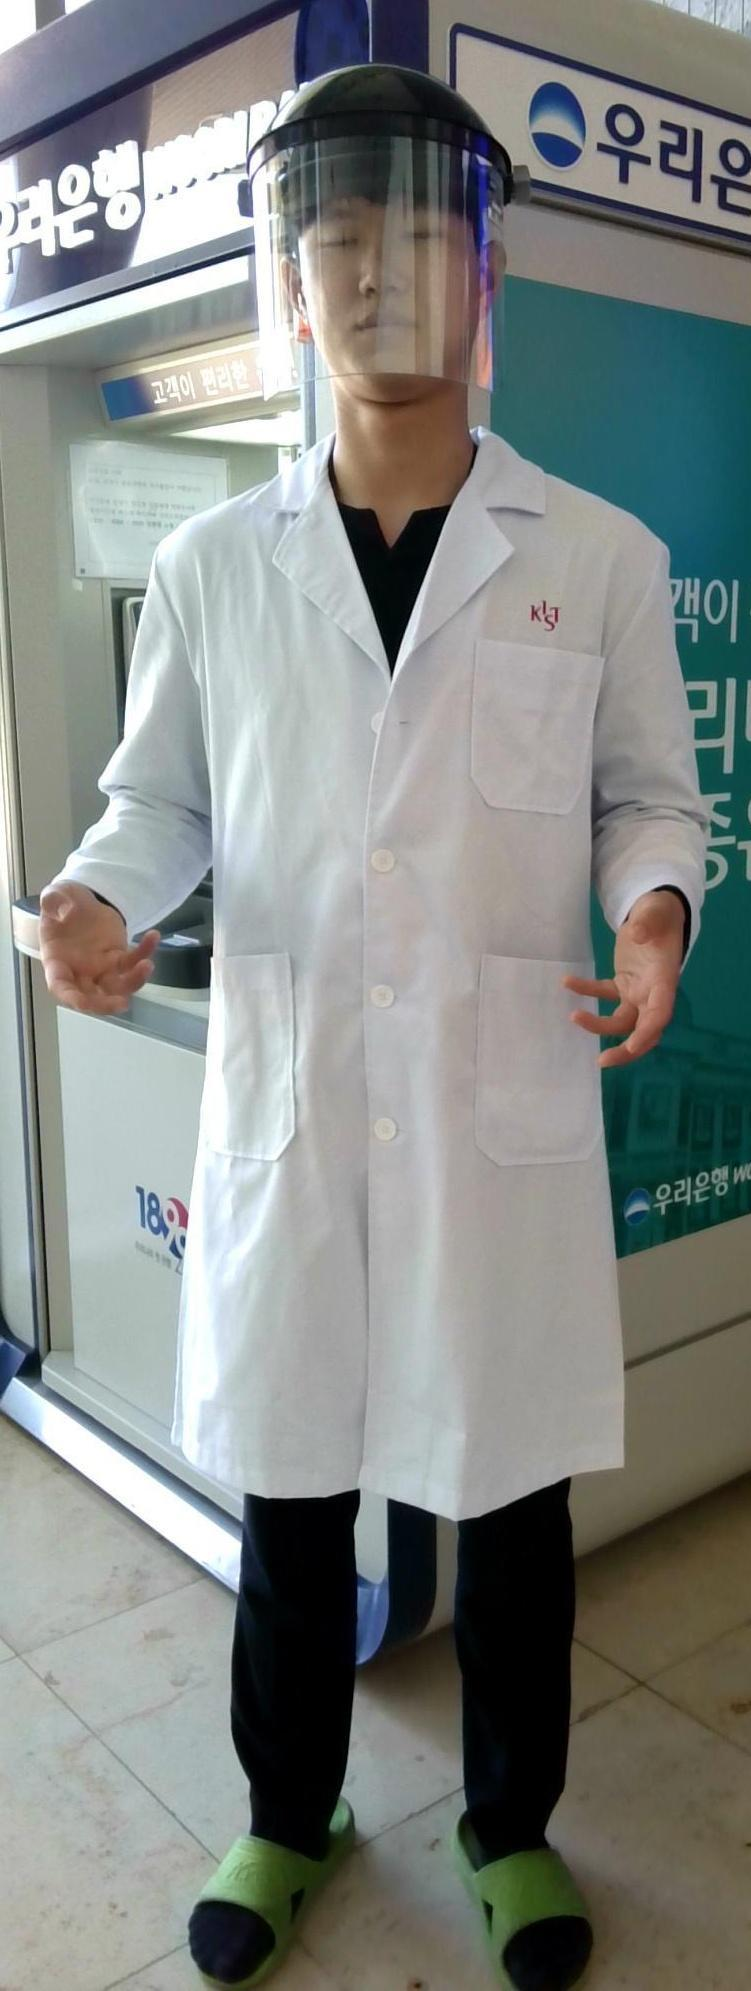lab_coat: (169, 486, 601, 1496)
